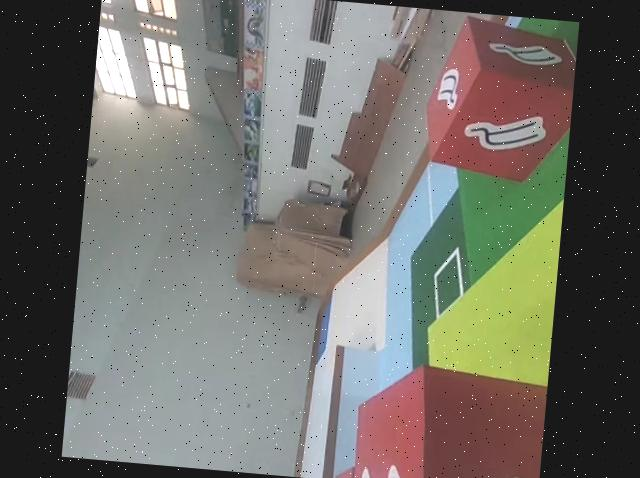R2 Real: (417, 9, 579, 188), (346, 357, 548, 478)
